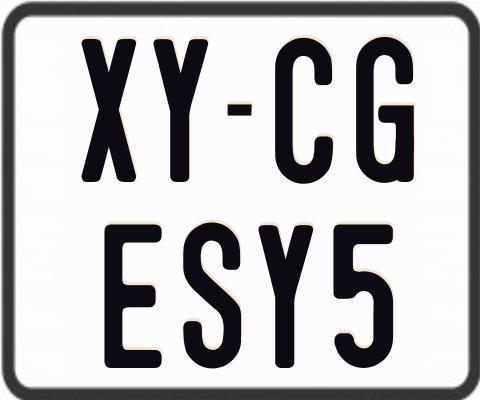5: (330, 224, 392, 374)
C: (274, 36, 334, 188)
E: (101, 223, 160, 371)
G: (354, 37, 412, 184)
S: (181, 219, 242, 365)
X: (82, 38, 139, 183)
Y: (151, 36, 210, 185), (259, 225, 315, 372)
